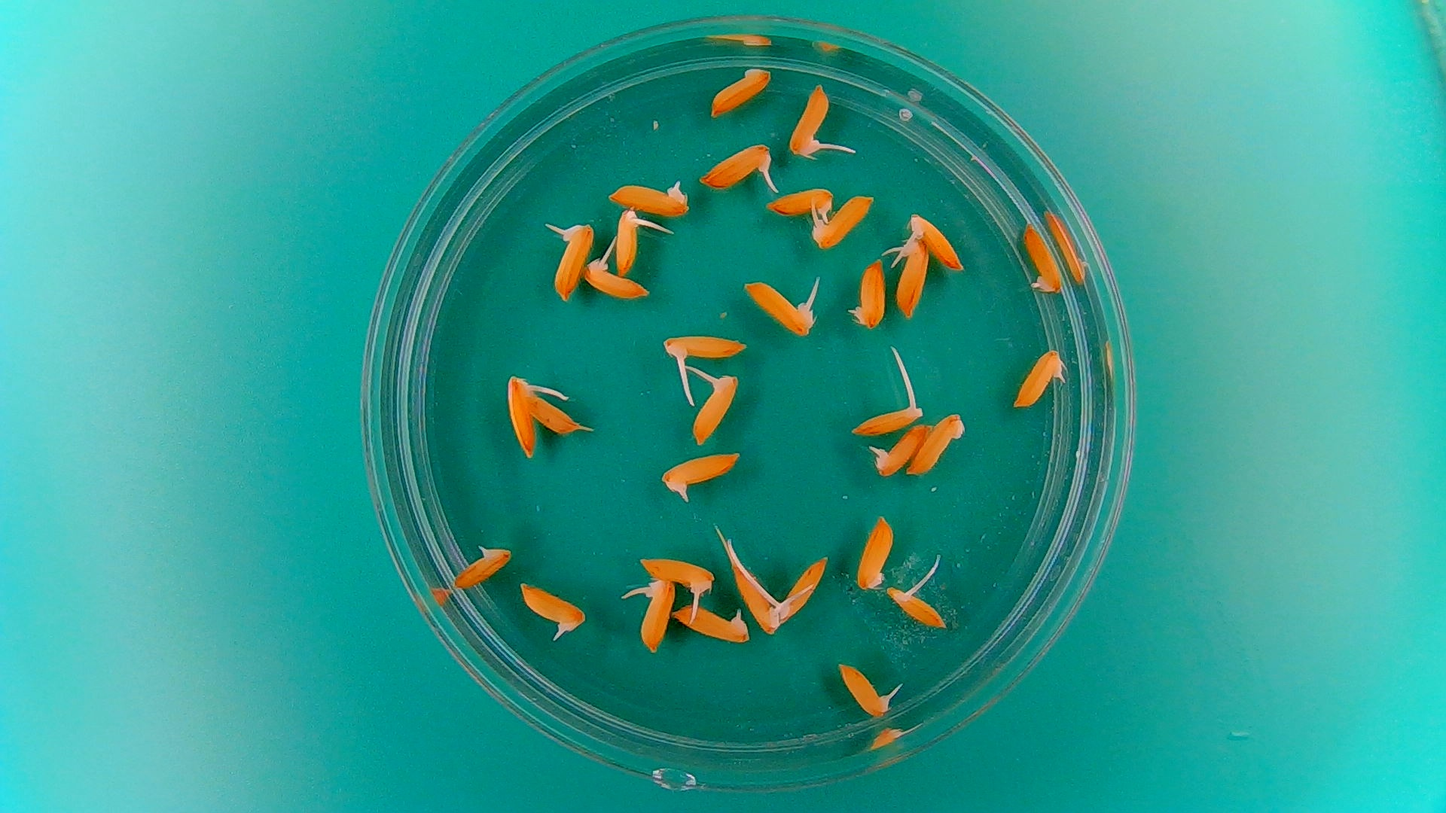no: (706, 62, 775, 119), (908, 413, 966, 477), (855, 512, 896, 594), (846, 254, 889, 331), (1020, 225, 1063, 294), (523, 391, 587, 436)
yes: (688, 366, 743, 449), (740, 276, 816, 335), (901, 209, 966, 273), (702, 138, 779, 190), (773, 551, 825, 627), (654, 330, 752, 370), (810, 190, 874, 250), (657, 447, 741, 492), (518, 580, 589, 632), (554, 216, 595, 303), (890, 237, 932, 321), (786, 79, 829, 158), (872, 422, 931, 478), (733, 569, 782, 636), (1011, 350, 1064, 411), (503, 372, 539, 461), (674, 604, 751, 644), (763, 180, 838, 221), (604, 181, 687, 218), (836, 663, 889, 720), (639, 576, 678, 650), (639, 556, 716, 593), (582, 260, 648, 303), (887, 586, 947, 631), (450, 546, 509, 590), (850, 402, 926, 436), (611, 206, 642, 273)
